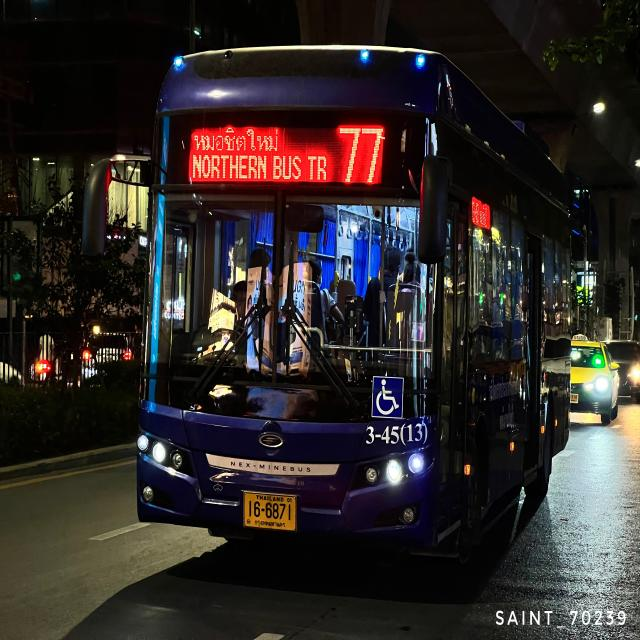Bus-Line-Number: (332, 119, 392, 188)
Destination-Sign-Normal: (185, 119, 332, 187)
TSB-Bus: (132, 26, 578, 592)
